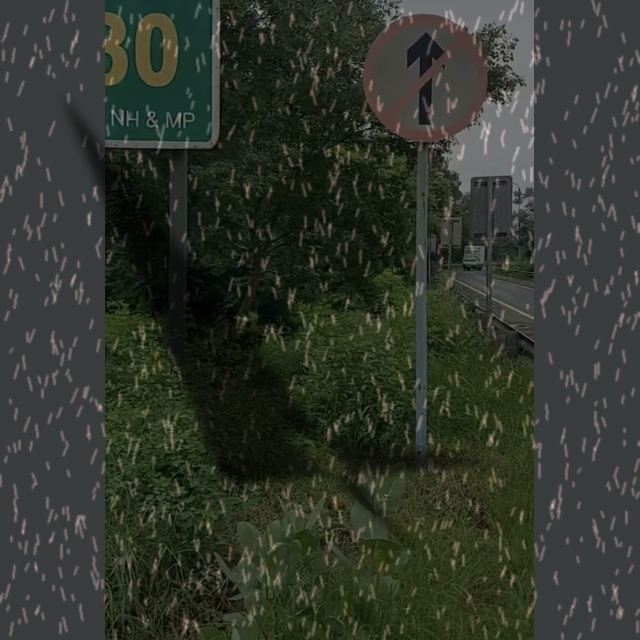No_Entry: (361, 18, 488, 143)
